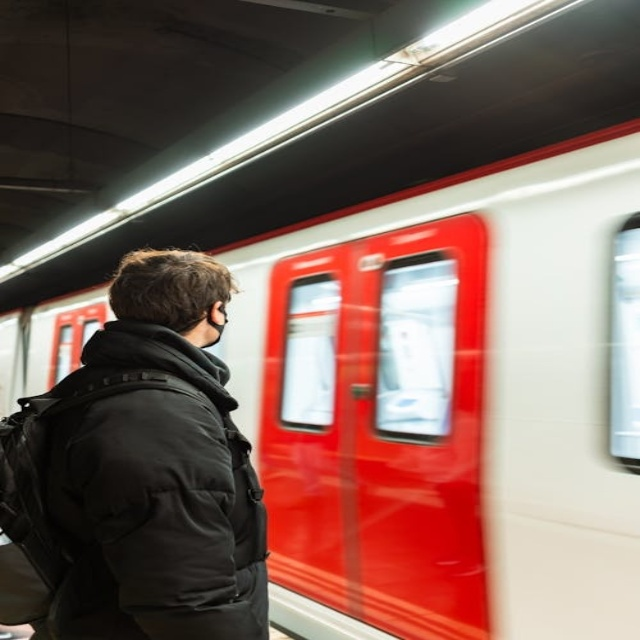Mascara: (198, 305, 226, 348)
